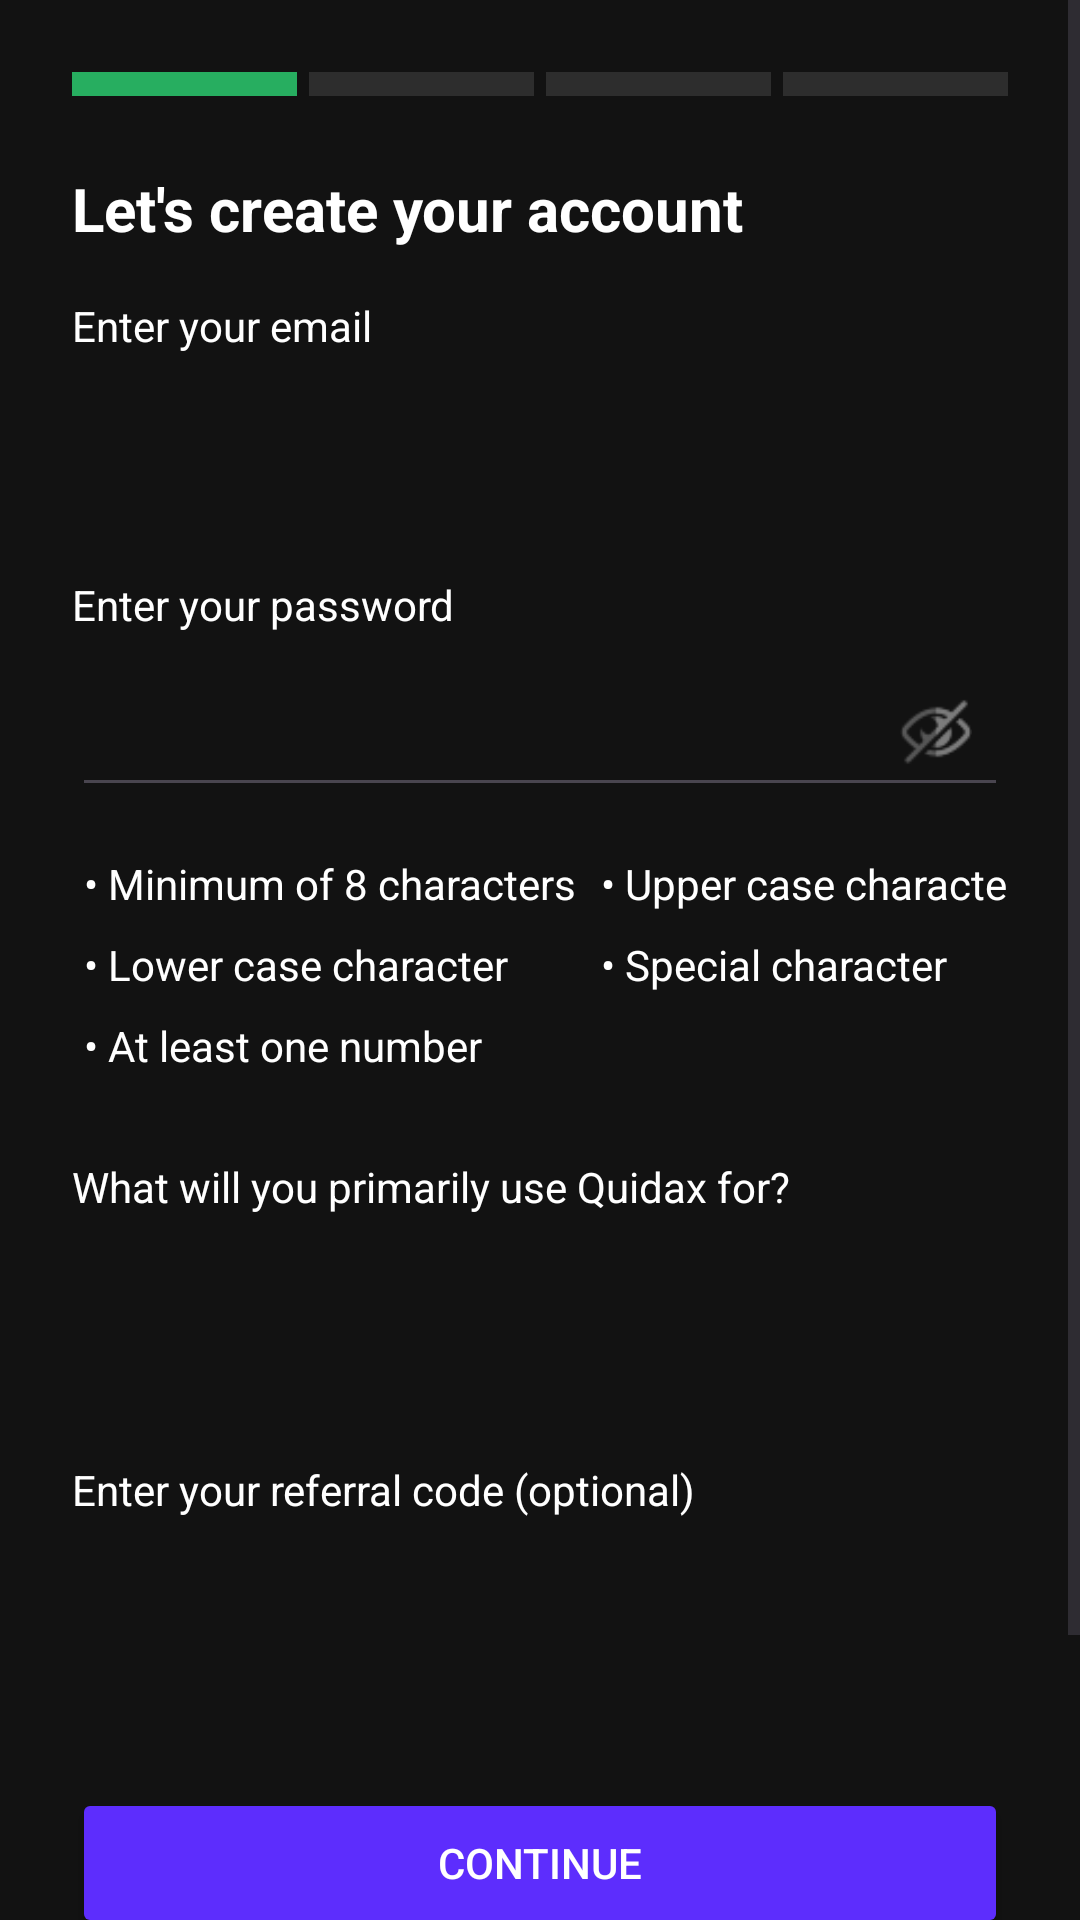

Icons on this 1080 × 1920 Android screen, each with the point to tap as [x,y]:
visibility off: [936,731]
